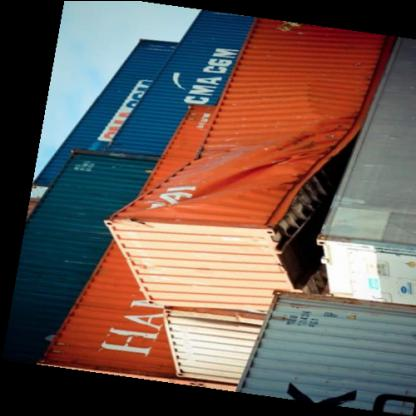Damage: (153, 102, 357, 246)
